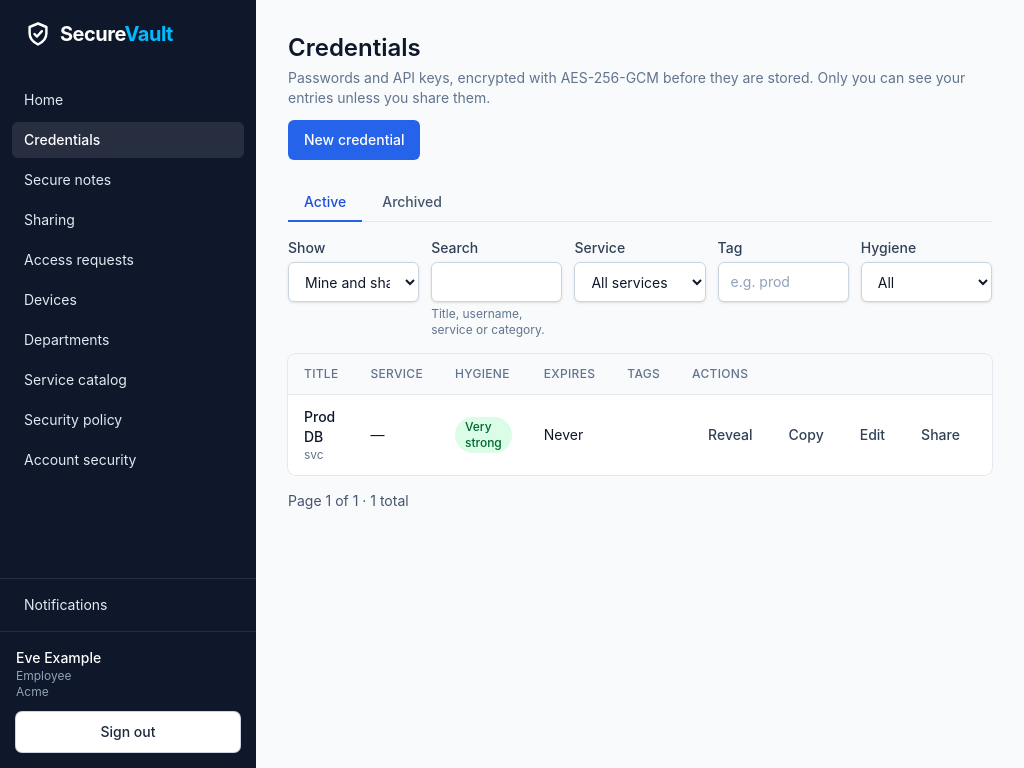
Test: sharing a credential › creates a view-once share as VIEW and tells the user what view-once cannot prevent
Click the button with aria-label "Share Prod DB".
click(940, 435)  # box [905,415,976,455]
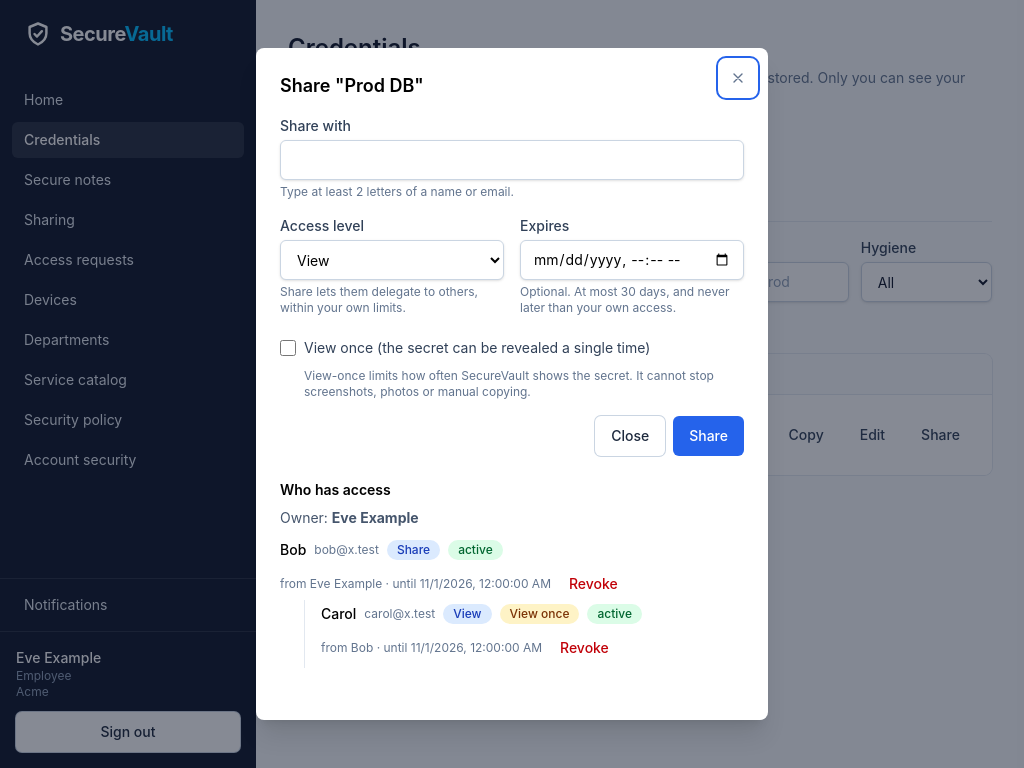
Type "bo" into the search field labelled "Share with".
click(512, 160); type("bo")  # box [280,140,744,180]
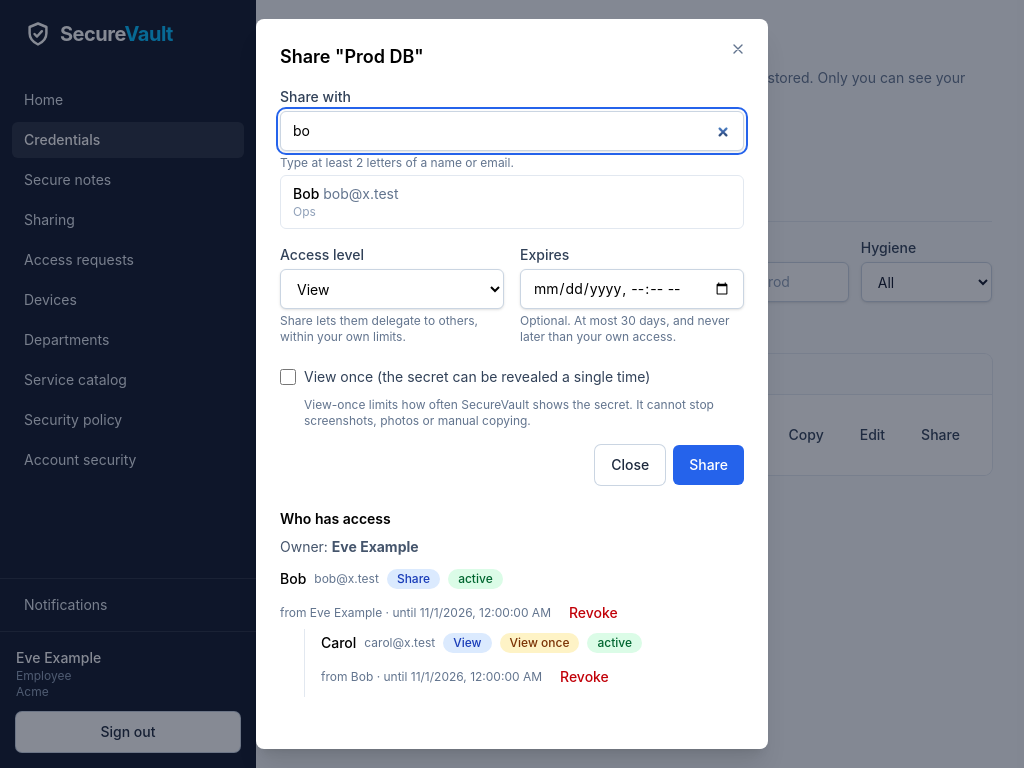
Click the button "Bob bob@x.test Ops".
click(361, 194)  # box [281,176,743,228]
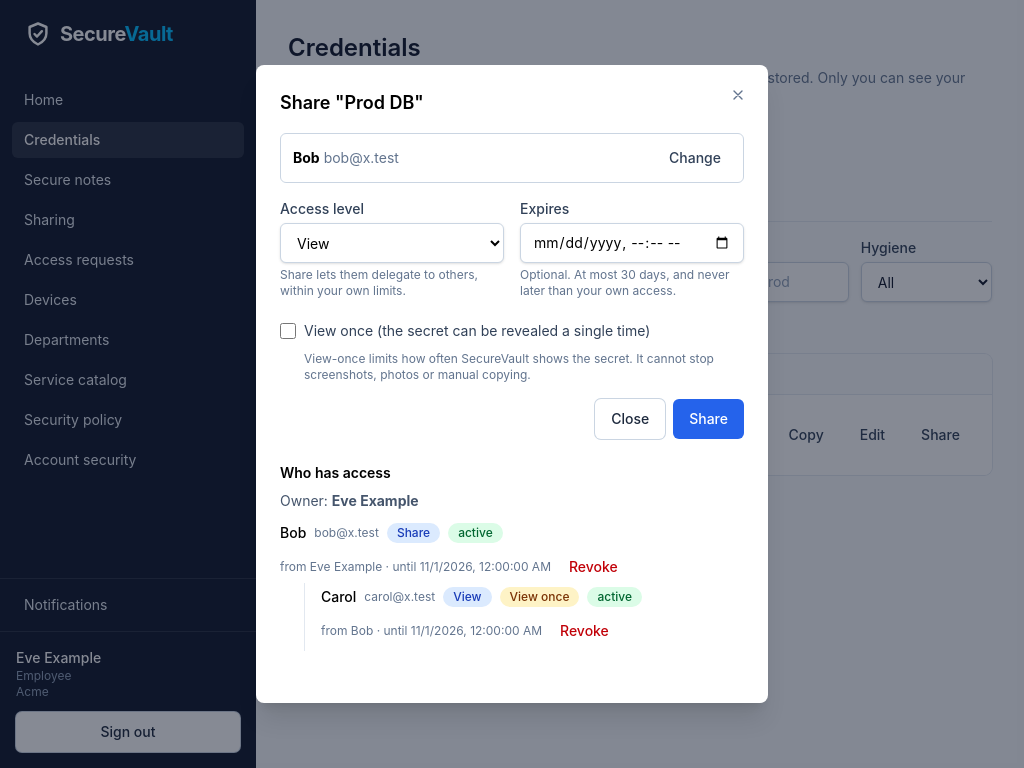
Select "Share" in the dropdown labelled "Access level" at (392, 243), box [280,223,504,263]
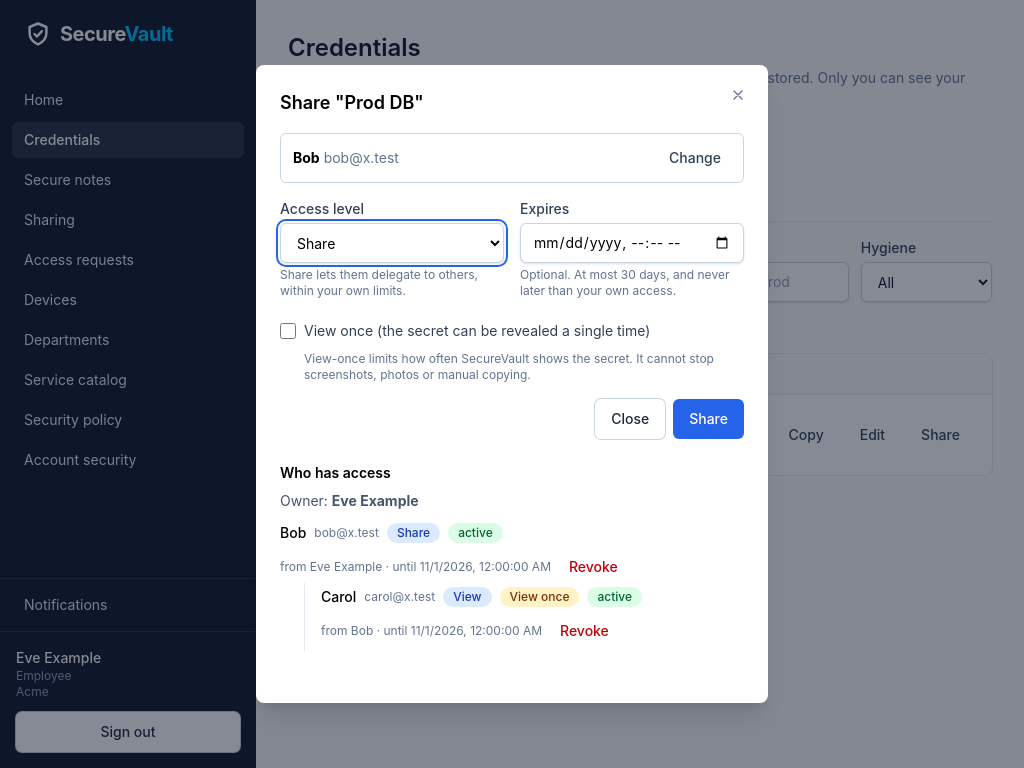
Click the checkbox labelled "View once (the secret can be revealed a single time)".
click(288, 331)  # box [280,323,296,339]
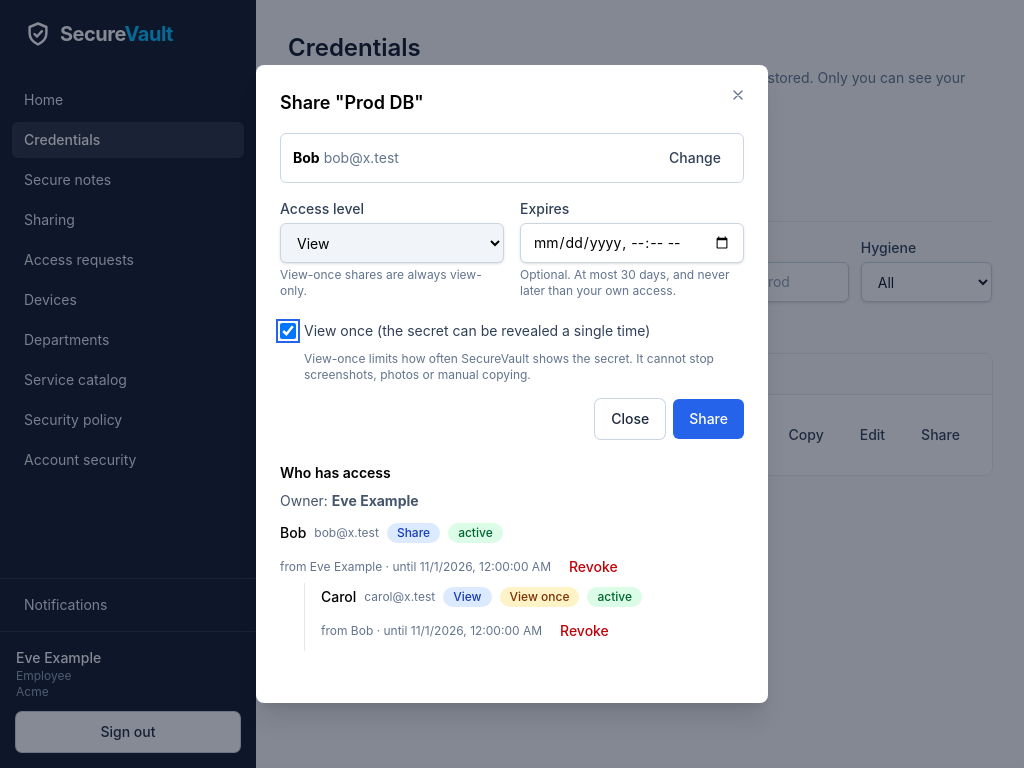
Expected: the text "cannot stop screenshots" is shown, [304,351,714,382]
Expected: the dropdown labelled "Access level" is disabled, [280,223,504,263]
Click the button "Share".
click(709, 419)  # box [673,399,744,439]
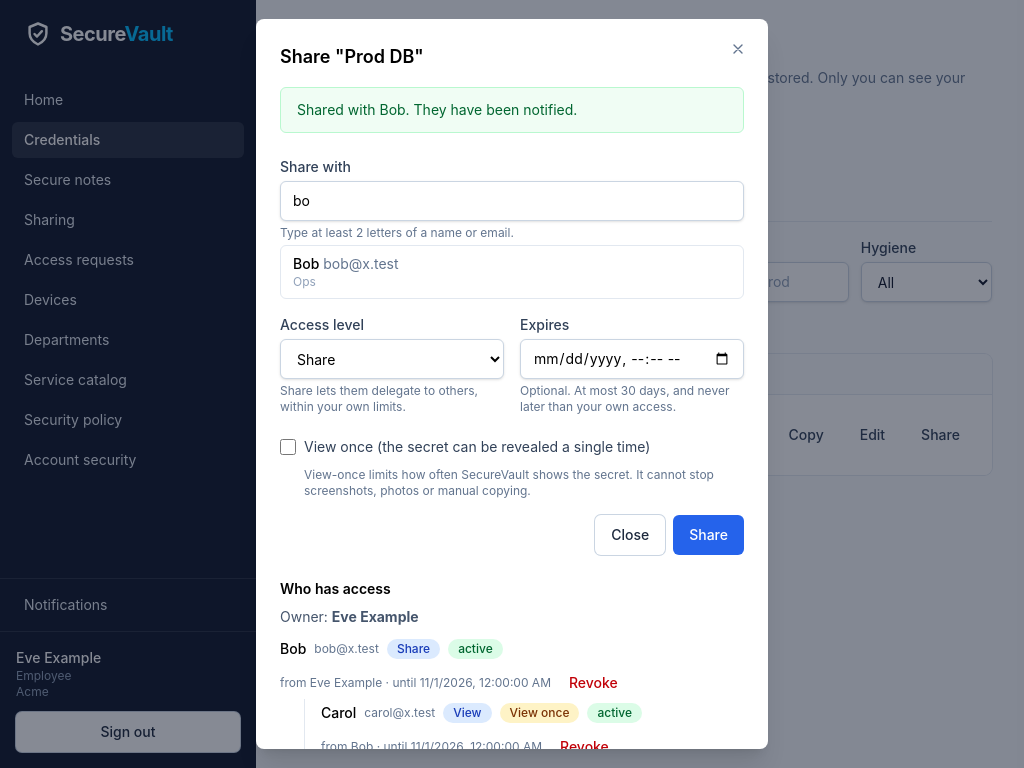
Expected: the text "Shared with Bob. They have been notified." is shown, [280,87,744,133]
